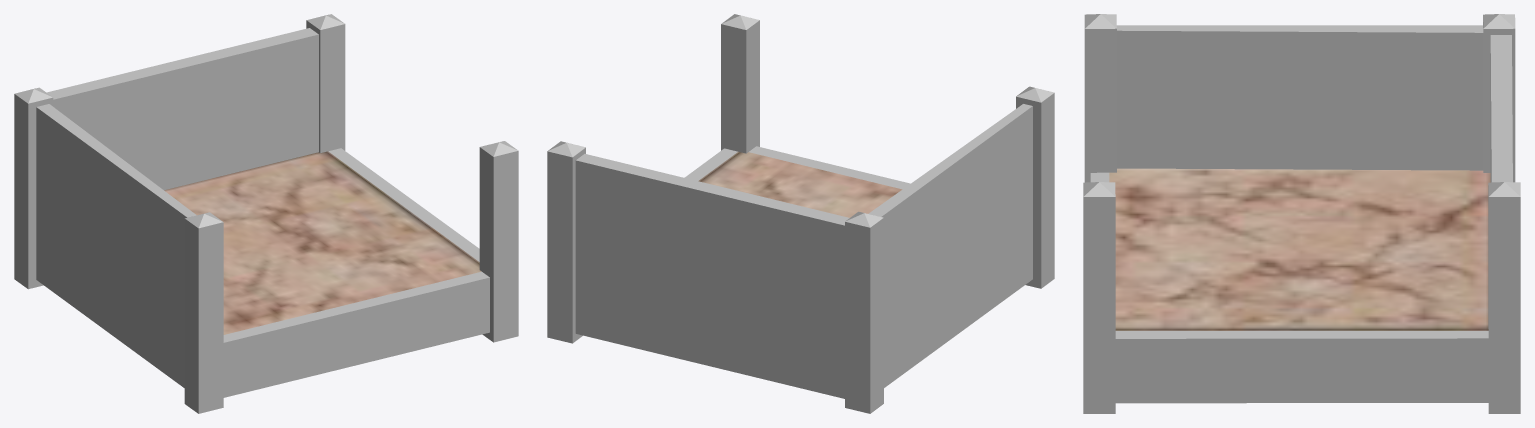
File: footbridge03c.fbx
3 views of the same model, side by side, from view 1: azimuth 30°, elevation 25°; view 2: azimuth 150°, elevation 25°; view 3: azimuth 270°, elevation 25° (orthographic). The views are drawn at different scales.
Parts seen in each view (by area): view 1: footbridge03c; view 2: footbridge03c; view 3: footbridge03c.
Part boxes in pixels (bbox=[...]): footbridge03c: bbox=[14, 14, 518, 413]; footbridge03c: bbox=[547, 14, 1054, 413]; footbridge03c: bbox=[1083, 14, 1520, 413].
Size of the model in its own units: 3.45 by 1.98 by 3.5.
